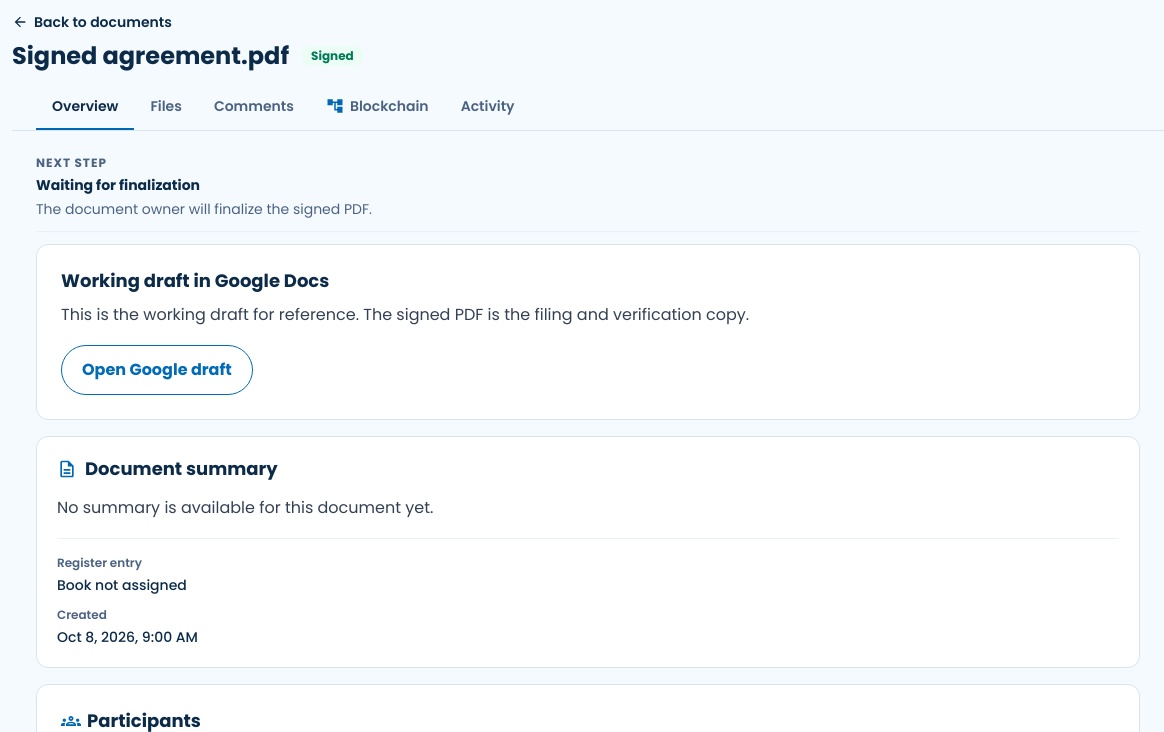
Scenario: document detail screen › shows live lifecycle, separate draft and signed PDF, and hides actions the backend disallows
The image size is (1164, 732).
Check: the heading "Signed agreement.pdf" is shown, box [12, 40, 289, 72]
Check: the text "Signed" is shown, box [301, 46, 364, 66]
Click the tab "Files" at [166, 107], box [134, 84, 198, 130]
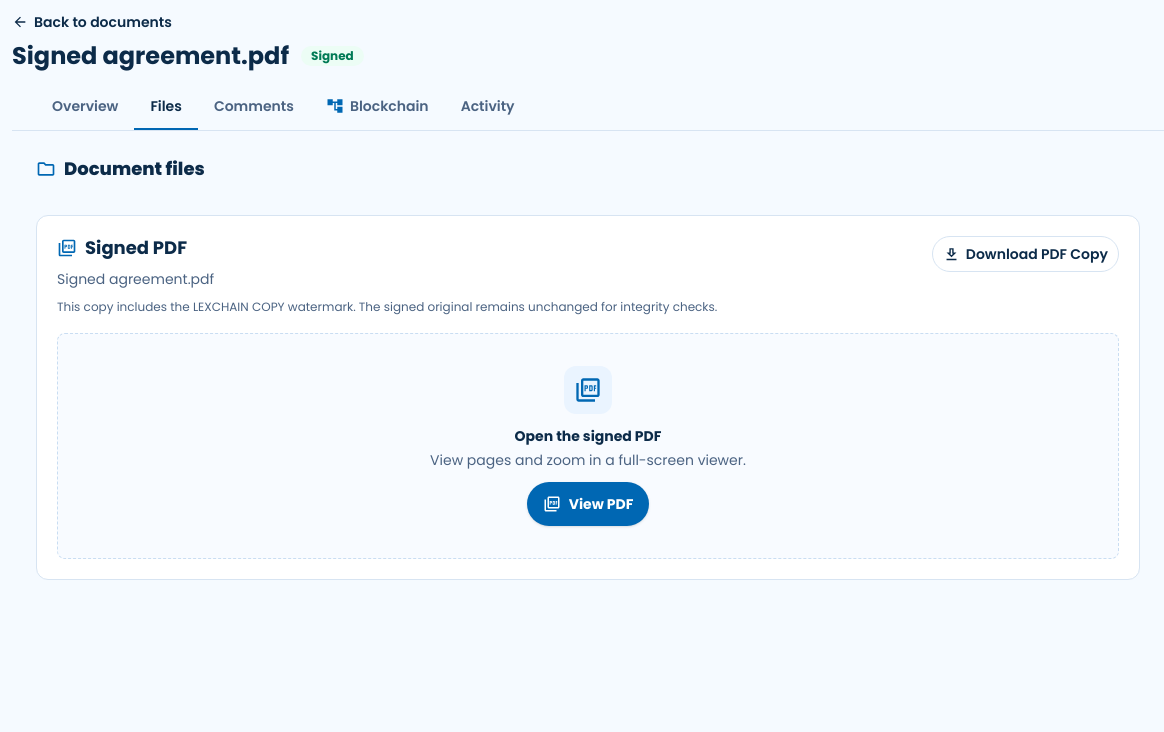
Check: the button "Download PDF Copy" is shown, box [932, 236, 1119, 272]
Click the tab "Blockchain" at [377, 107], box [310, 84, 445, 130]
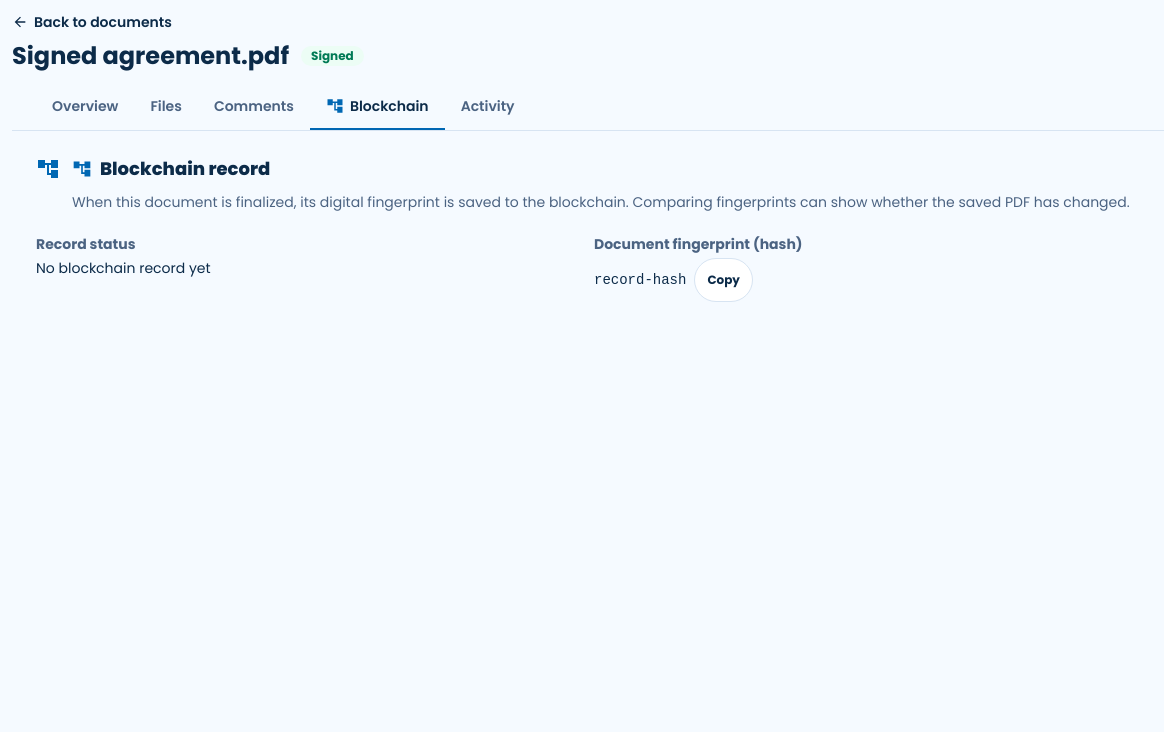
Check: the text "record-hash" is shown, box [594, 270, 686, 290]
